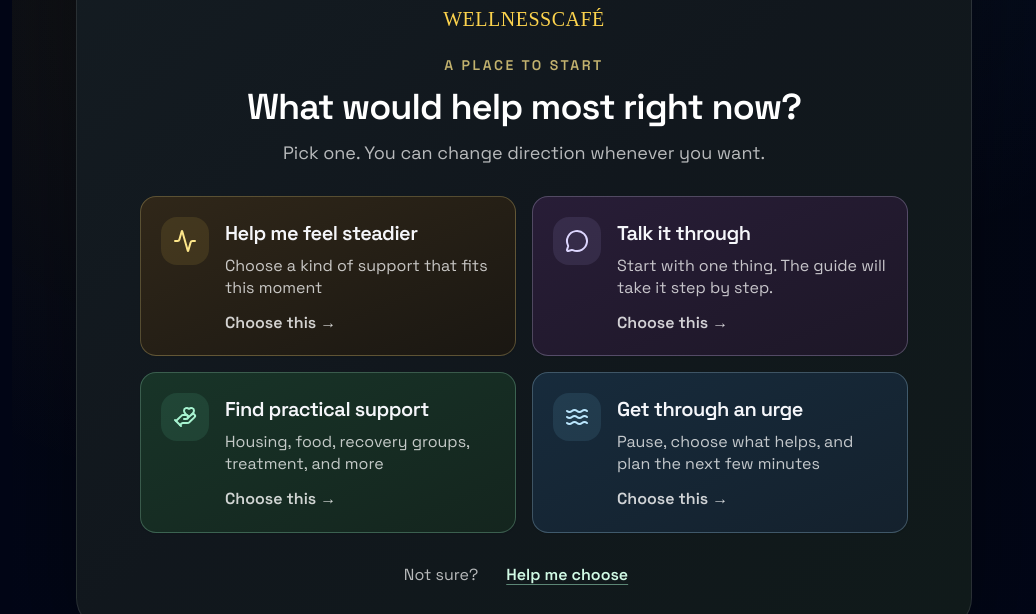
it: WelcomeScreen conversation entry › opens the real Urge Support practice from the urge pathway
The width and height of the screenshot is (1036, 614).
Click the button "Get through an urge" at (720,452), box x1=532 y1=372 x2=908 y2=533
(page scrolled)
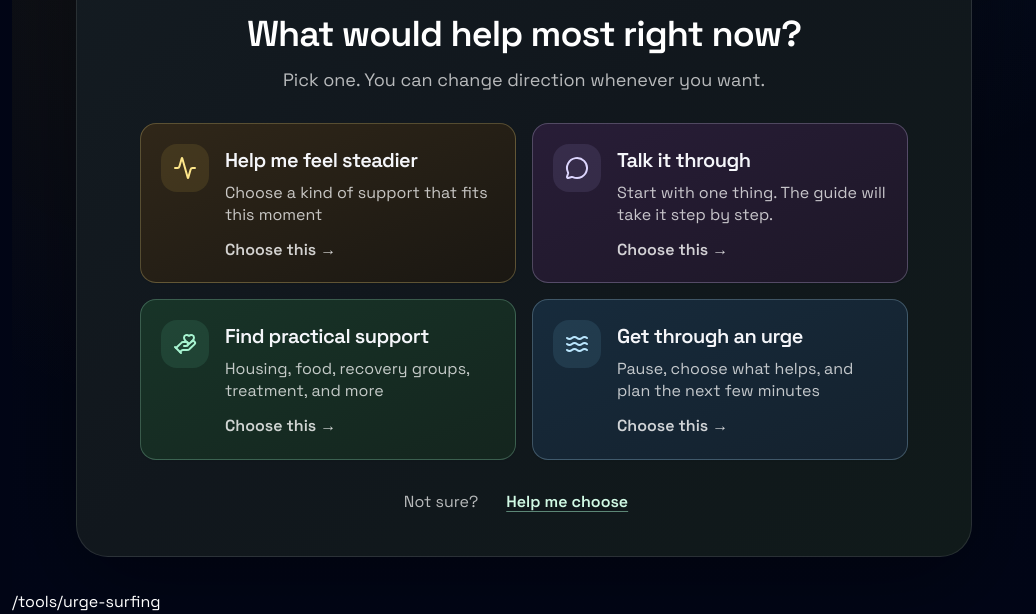
expect the text with test id "location" reads "/tools/urge-surfing": met, box x1=12 y1=591 x2=160 y2=612
